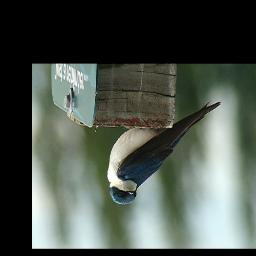Swallow: (107, 100, 222, 205)
